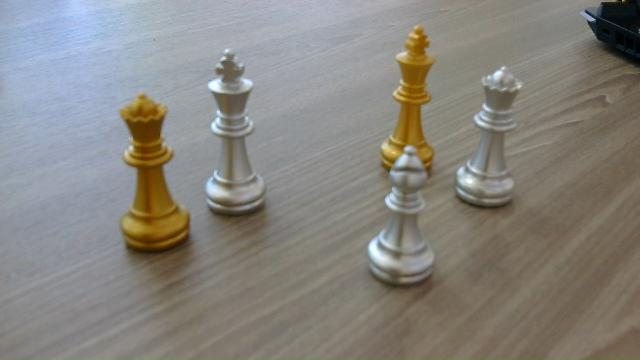black_king: (378, 25, 438, 170)
black_queen: (117, 93, 191, 250)
white_bishop: (366, 144, 435, 284)
white_king: (203, 49, 267, 213)
white_queen: (455, 67, 524, 207)
